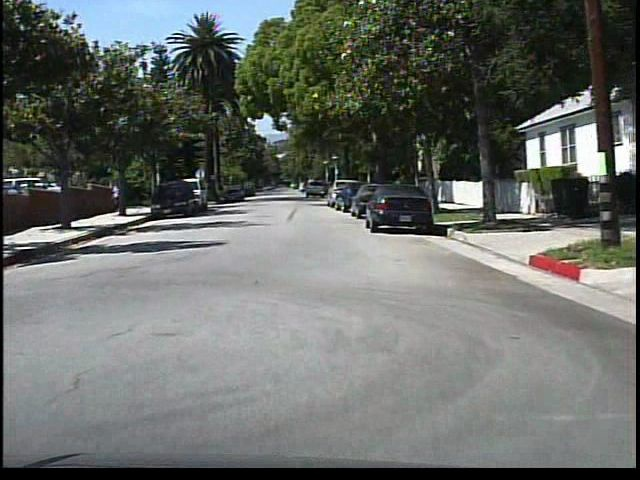person: (109, 178, 126, 216)
